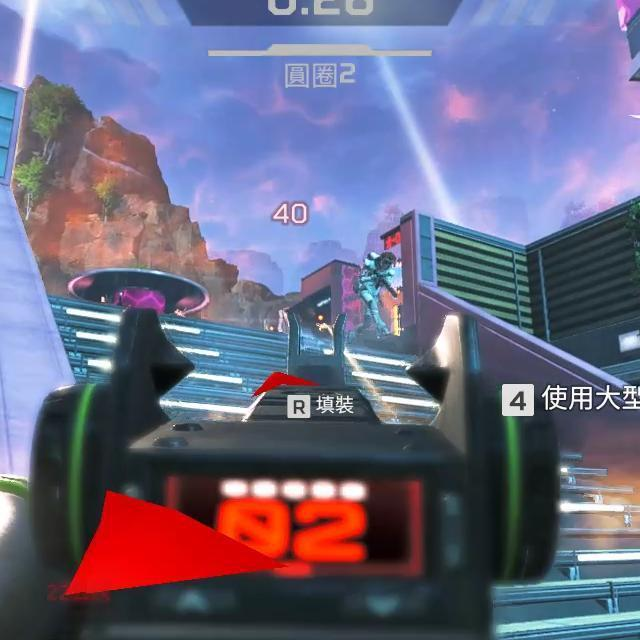avatar: (355, 249, 400, 342)
